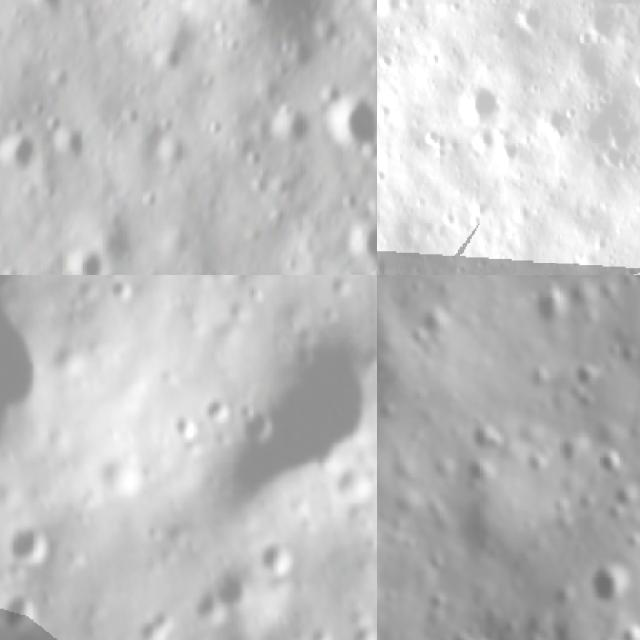crater: (219, 311, 377, 508), (0, 275, 69, 493), (318, 86, 377, 166), (0, 121, 51, 195), (47, 115, 107, 174), (264, 102, 322, 161), (0, 581, 60, 637), (3, 515, 61, 572), (452, 78, 513, 132), (208, 560, 257, 617), (232, 403, 290, 451), (331, 460, 377, 516), (53, 236, 119, 275), (145, 32, 194, 83), (339, 210, 377, 275), (133, 600, 187, 640), (12, 0, 81, 31), (597, 560, 637, 609), (200, 382, 241, 428), (262, 534, 300, 582), (534, 96, 574, 140), (55, 341, 97, 378), (590, 447, 630, 479), (173, 409, 208, 444), (318, 275, 356, 306), (111, 275, 142, 306), (75, 275, 108, 304), (146, 521, 172, 549), (247, 284, 269, 306), (616, 626, 640, 640)
